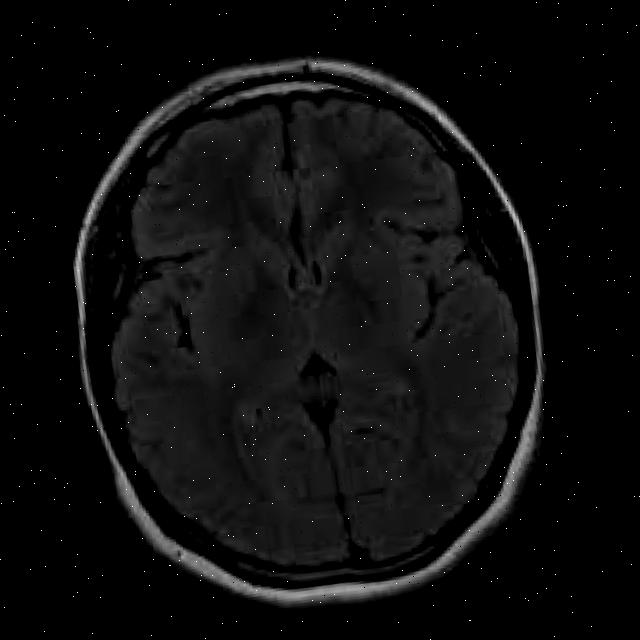NoTumor: (20, 11, 599, 640)
